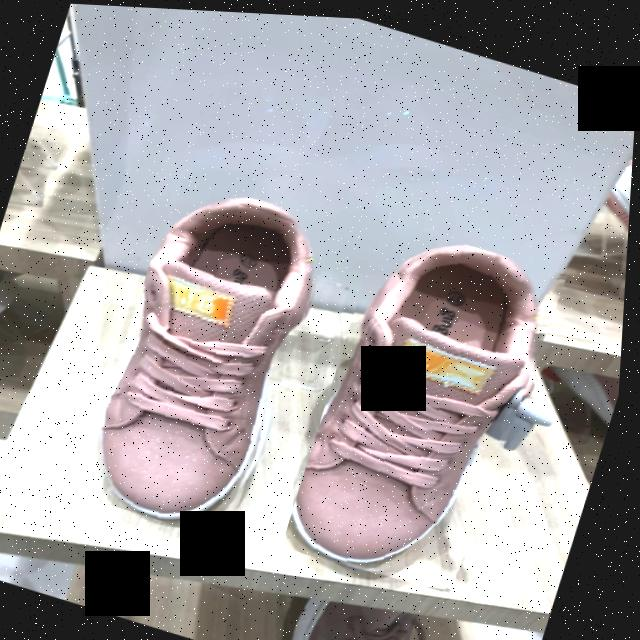shoe: (298, 241, 540, 563), (108, 203, 317, 523)
